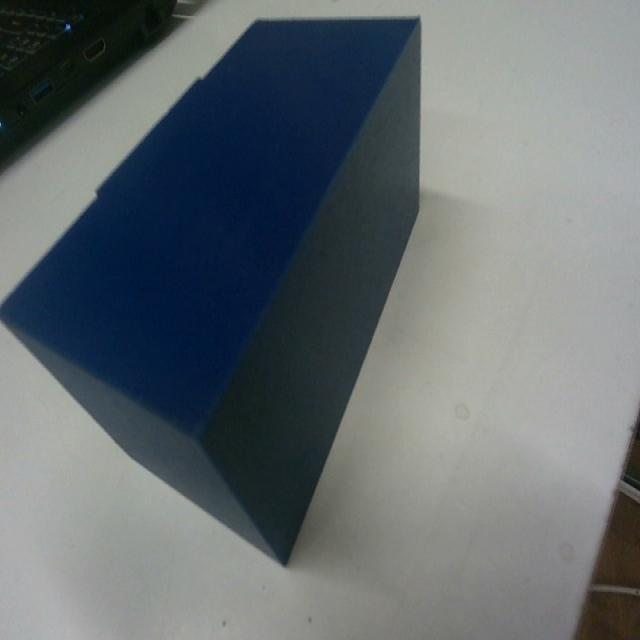Blue Cuboid: (0, 12, 424, 565)
